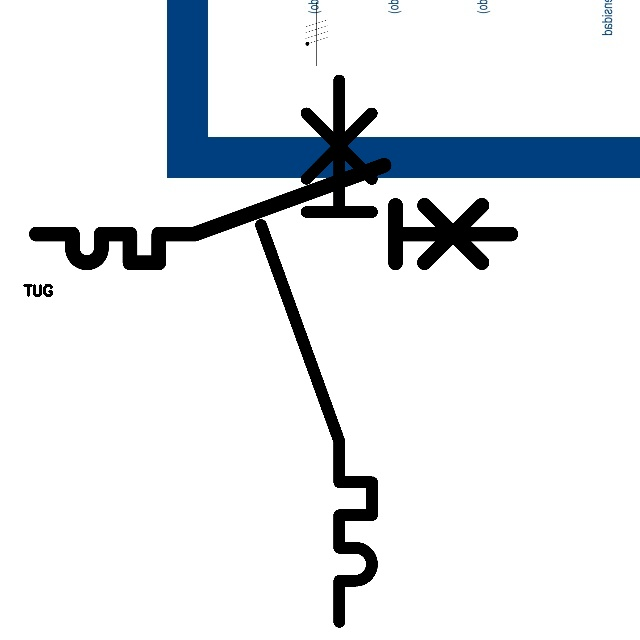interruptor_termomagnetico: (247, 66, 386, 636), (24, 153, 523, 275)
